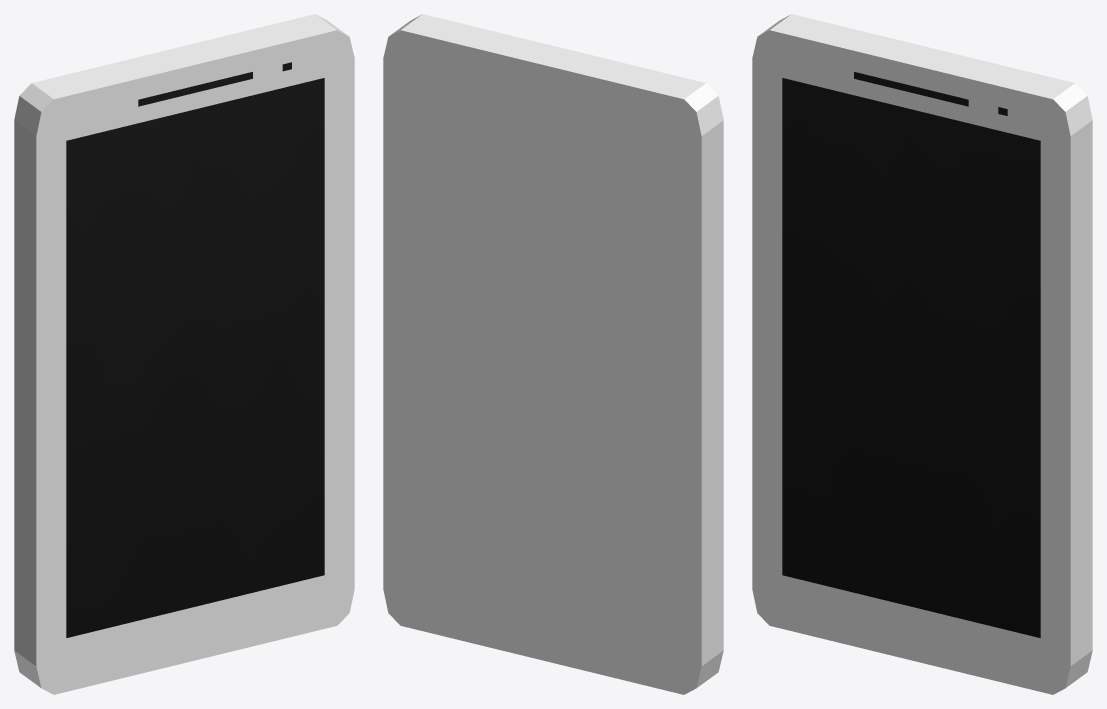
The model's file is white_mobile.glb.
3 views of the same model, side by side, from view 1: azimuth 30°, elevation 25°; view 2: azimuth 150°, elevation 25°; view 3: azimuth 330°, elevation 25° (orthographic).
Parts seen in each view (by area): view 1: White_Mobile; view 2: White_Mobile; view 3: White_Mobile.
Part boxes in pixels (x1,y1,x2,y2): White_Mobile: [14, 14, 354, 694]; White_Mobile: [383, 14, 723, 694]; White_Mobile: [752, 14, 1092, 694].
Bounding box in the file's own units: 0.4518 × 0.8076 × 0.0546.
Materials: 1 (1 with a texture image).
